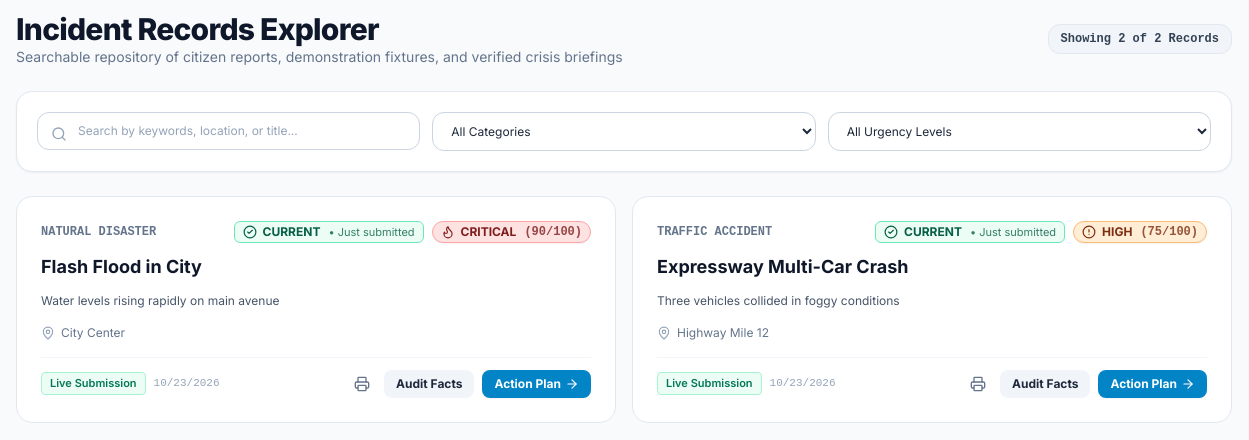
it: UI Component Tests › IncidentExplorer filters records by search query and category
The image size is (1249, 440).
Expected: the heading "Flash Flood in City" is shown, [41, 256, 202, 277]
Expected: the heading "Expressway Multi-Car Crash" is shown, [657, 256, 908, 277]
# Search query test
Type "Flood" into the field named "Search incident records" at {"x": 229, "y": 131}, box [37, 112, 420, 150]
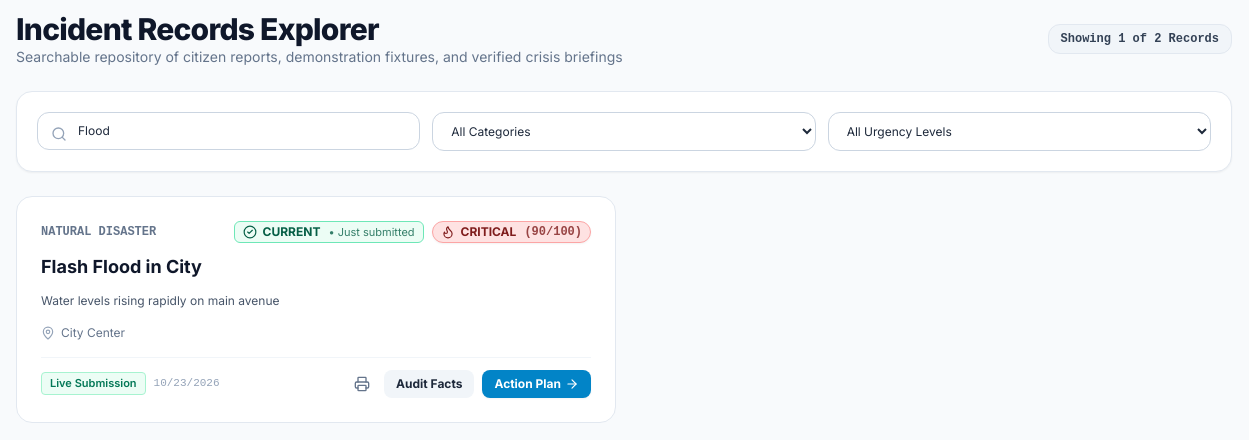
Expected: the heading "Flash Flood in City" is shown, [41, 256, 202, 277]
Now the heading "Expressway Multi-Car Crash" is gone
